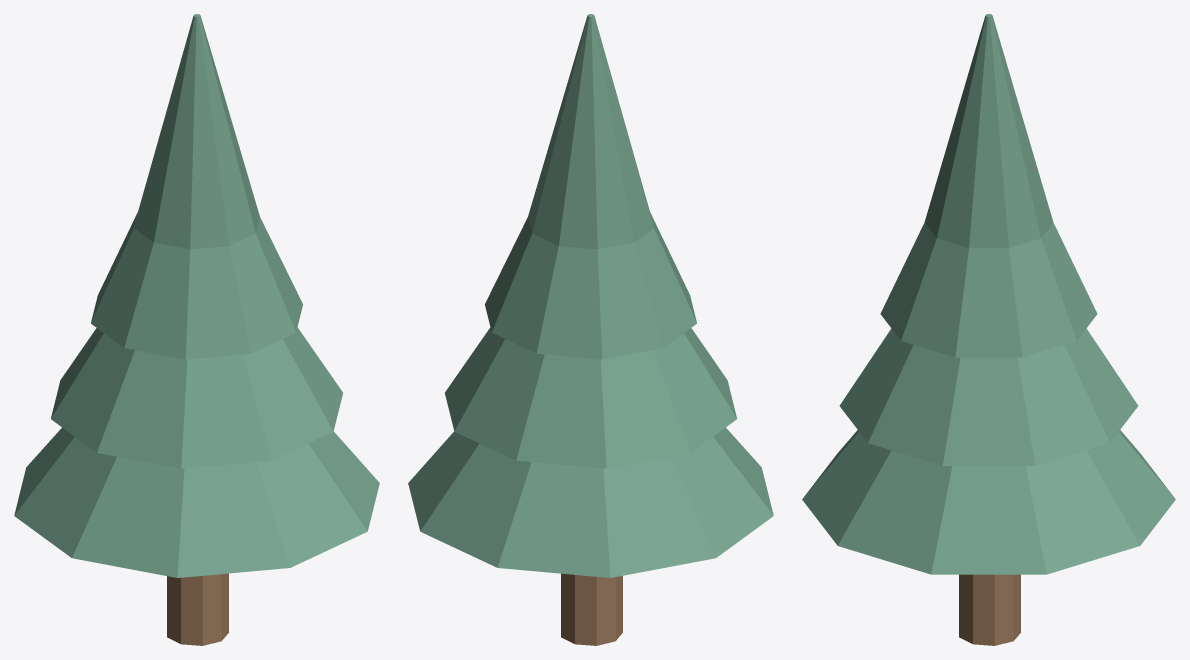
File: fir-tree.glb
The picture shows the model from 3 angles, left to right: view 1: azimuth 30°, elevation 25°; view 2: azimuth 150°, elevation 25°; view 3: azimuth 270°, elevation 25°; orthographic projection.
Parts seen in each view (by area): view 1: Fir tier, Fir tier.001, Fir tier.002, Fir tier.003, Fir trunk; view 2: Fir tier, Fir tier.001, Fir tier.002, Fir tier.003, Fir trunk; view 3: Fir tier, Fir tier.001, Fir tier.002, Fir tier.003, Fir trunk.
Boxes of the visible parts, x1,y1,x2,y2 form: Fir tier: (14,427,379,577); Fir tier.001: (51,327,342,468); Fir tier.002: (91,212,302,359); Fir tier.003: (134,14,259,249); Fir trunk: (167,573,228,645); Fir tier: (408,427,773,577); Fir tier.001: (445,327,736,468); Fir tier.002: (485,212,696,359); Fir tier.003: (528,14,653,249); Fir trunk: (561,573,622,645); Fir tier: (802,430,1175,574); Fir tier.001: (839,328,1138,465); Fir tier.002: (880,222,1097,357); Fir tier.003: (924,14,1053,248); Fir trunk: (959,574,1020,645).
Bounding box in the file's own units: 2 × 3.83 × 2.1.
